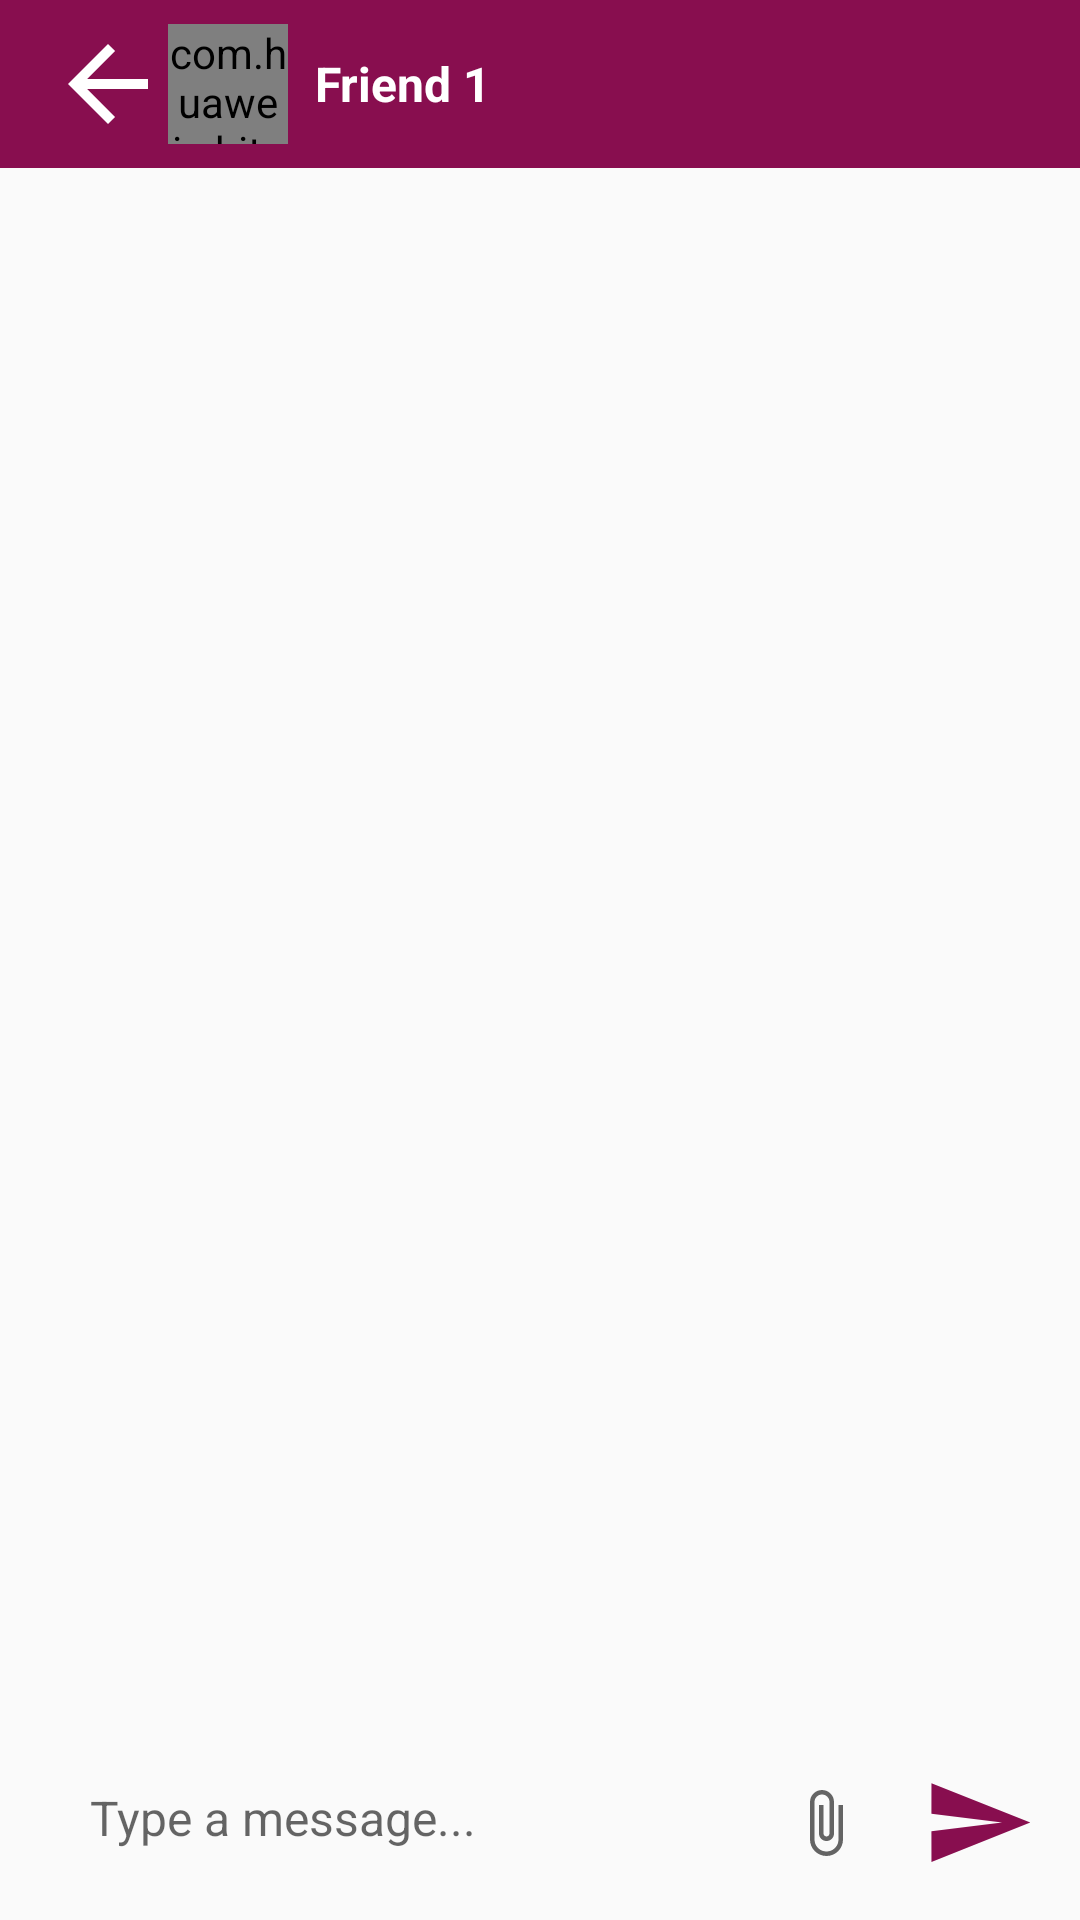

Point at icon controls on the screen. Image size 1080x1920, points as point (x, y).
arrow back: point (108, 84)
attach file: point (826, 1823)
send: point (980, 1822)
